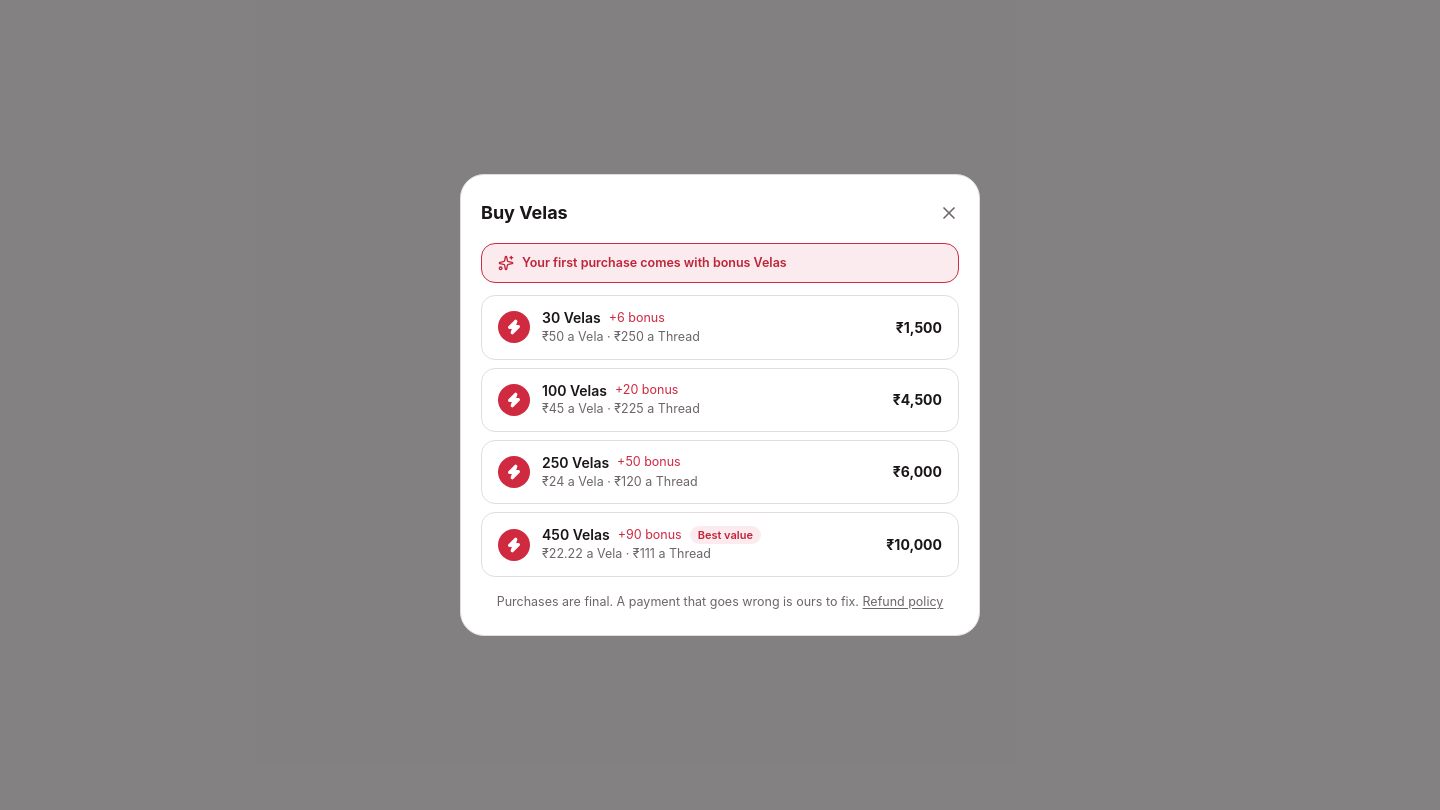
Scenario: an order that can't open a window: nothing was charged › a price other than the one shown: no window, the packs asked again
The width and height of the screenshot is (1440, 810).
Click the button "30 Velas +6 bonus ₹50 a Vela · ₹250 a Thread ₹1,500". click: (514, 327)
box: 481,295 -> 959,360
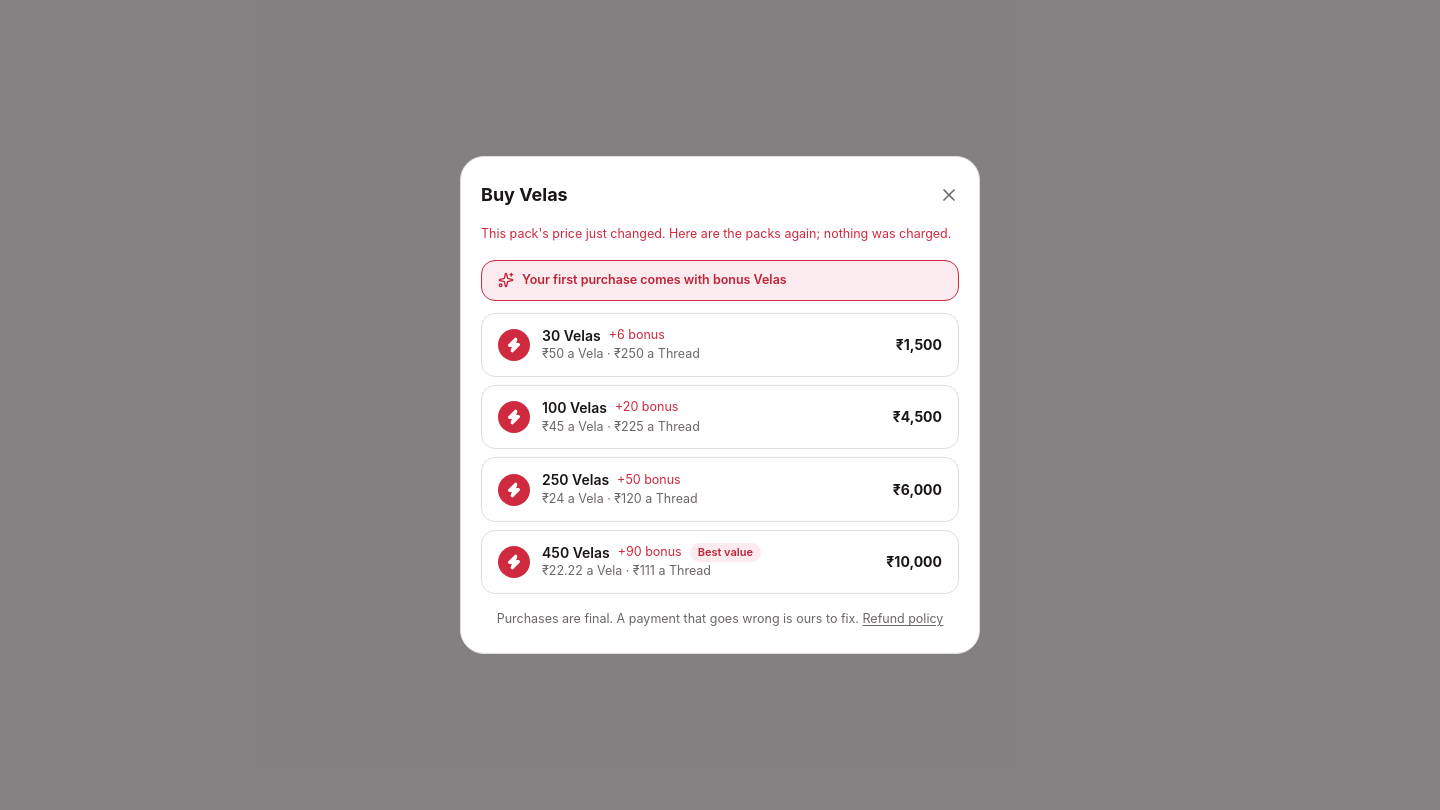
Result: the message reads "This pack's price just changed. Here are the packs again; nothing was charged." at 481,226 -> 951,241
